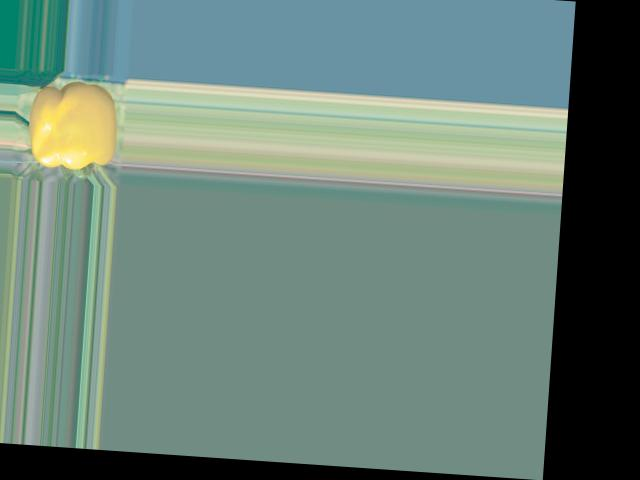bell_pepper: (18, 77, 125, 180)
